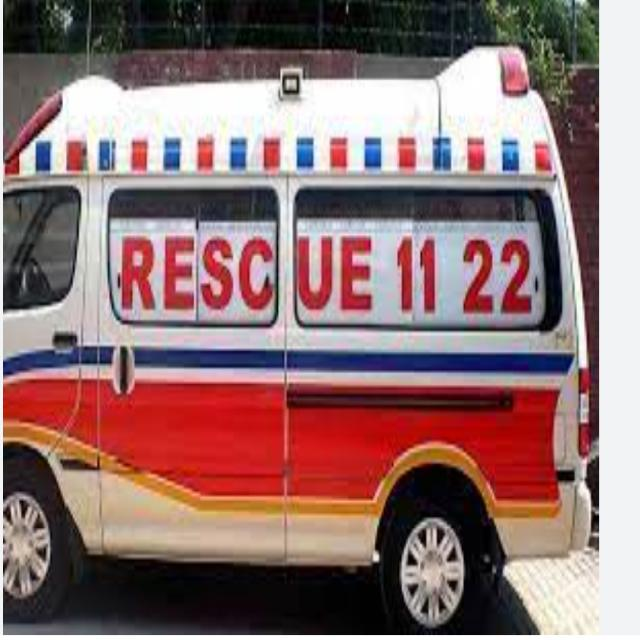ambulance: (8, 85, 586, 560)
